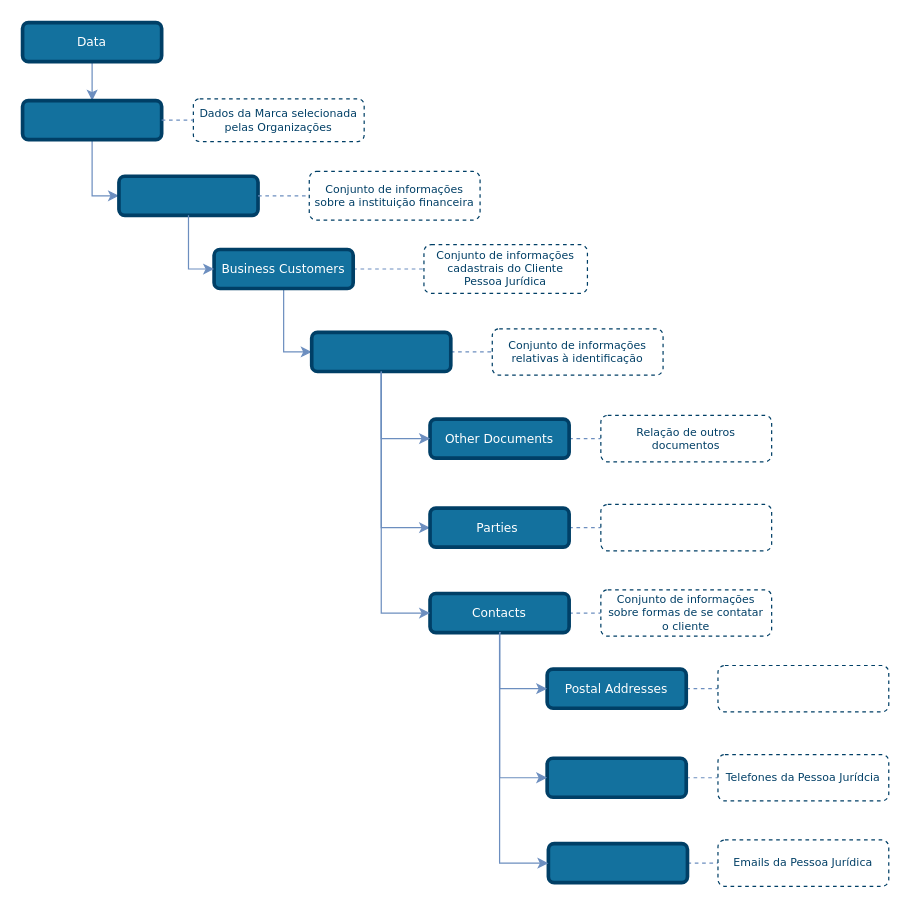
Some shapes in this 910 by 908 pixel diagram are drawn without their labels. Each missing label, with the centre of its shape:
Brand: point (91, 119)
Companies: point (188, 195)
Emails: point (617, 862)
Endereços da Pessoa Jurídica: point (803, 688)
Identification: point (380, 351)
Phones: point (616, 777)
Relação das partes envolvidas: point (686, 527)
